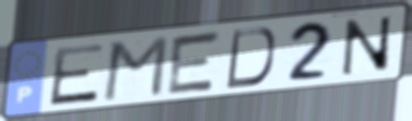2: (284, 18, 335, 85)
D: (223, 25, 277, 91)
E: (163, 28, 224, 97), (46, 41, 108, 108)
M: (99, 33, 171, 103)
N: (340, 14, 394, 78)
